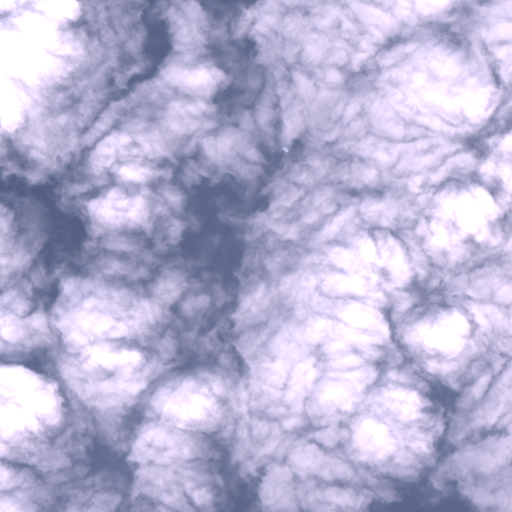Iceberg: (283, 147, 287, 152)
